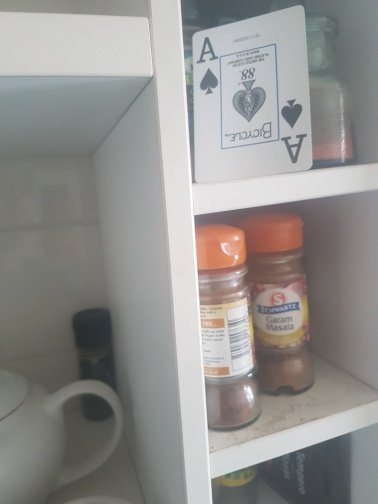ace: (192, 5, 312, 183)
